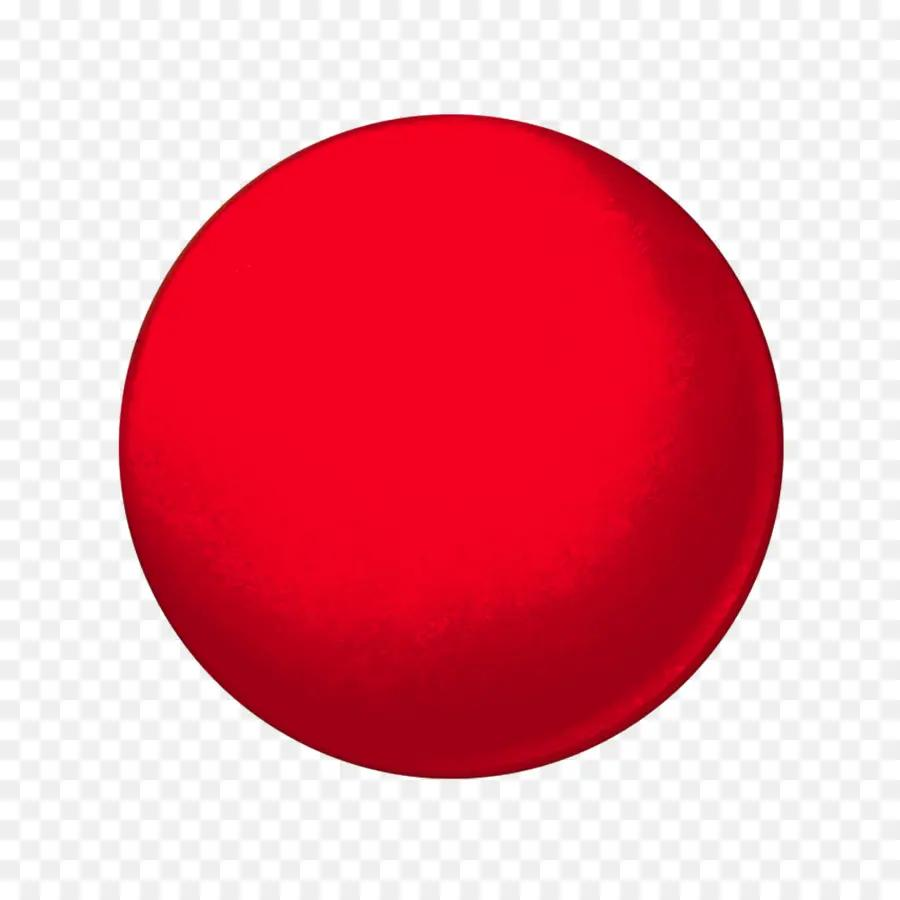red_circle: (110, 114, 792, 784)
